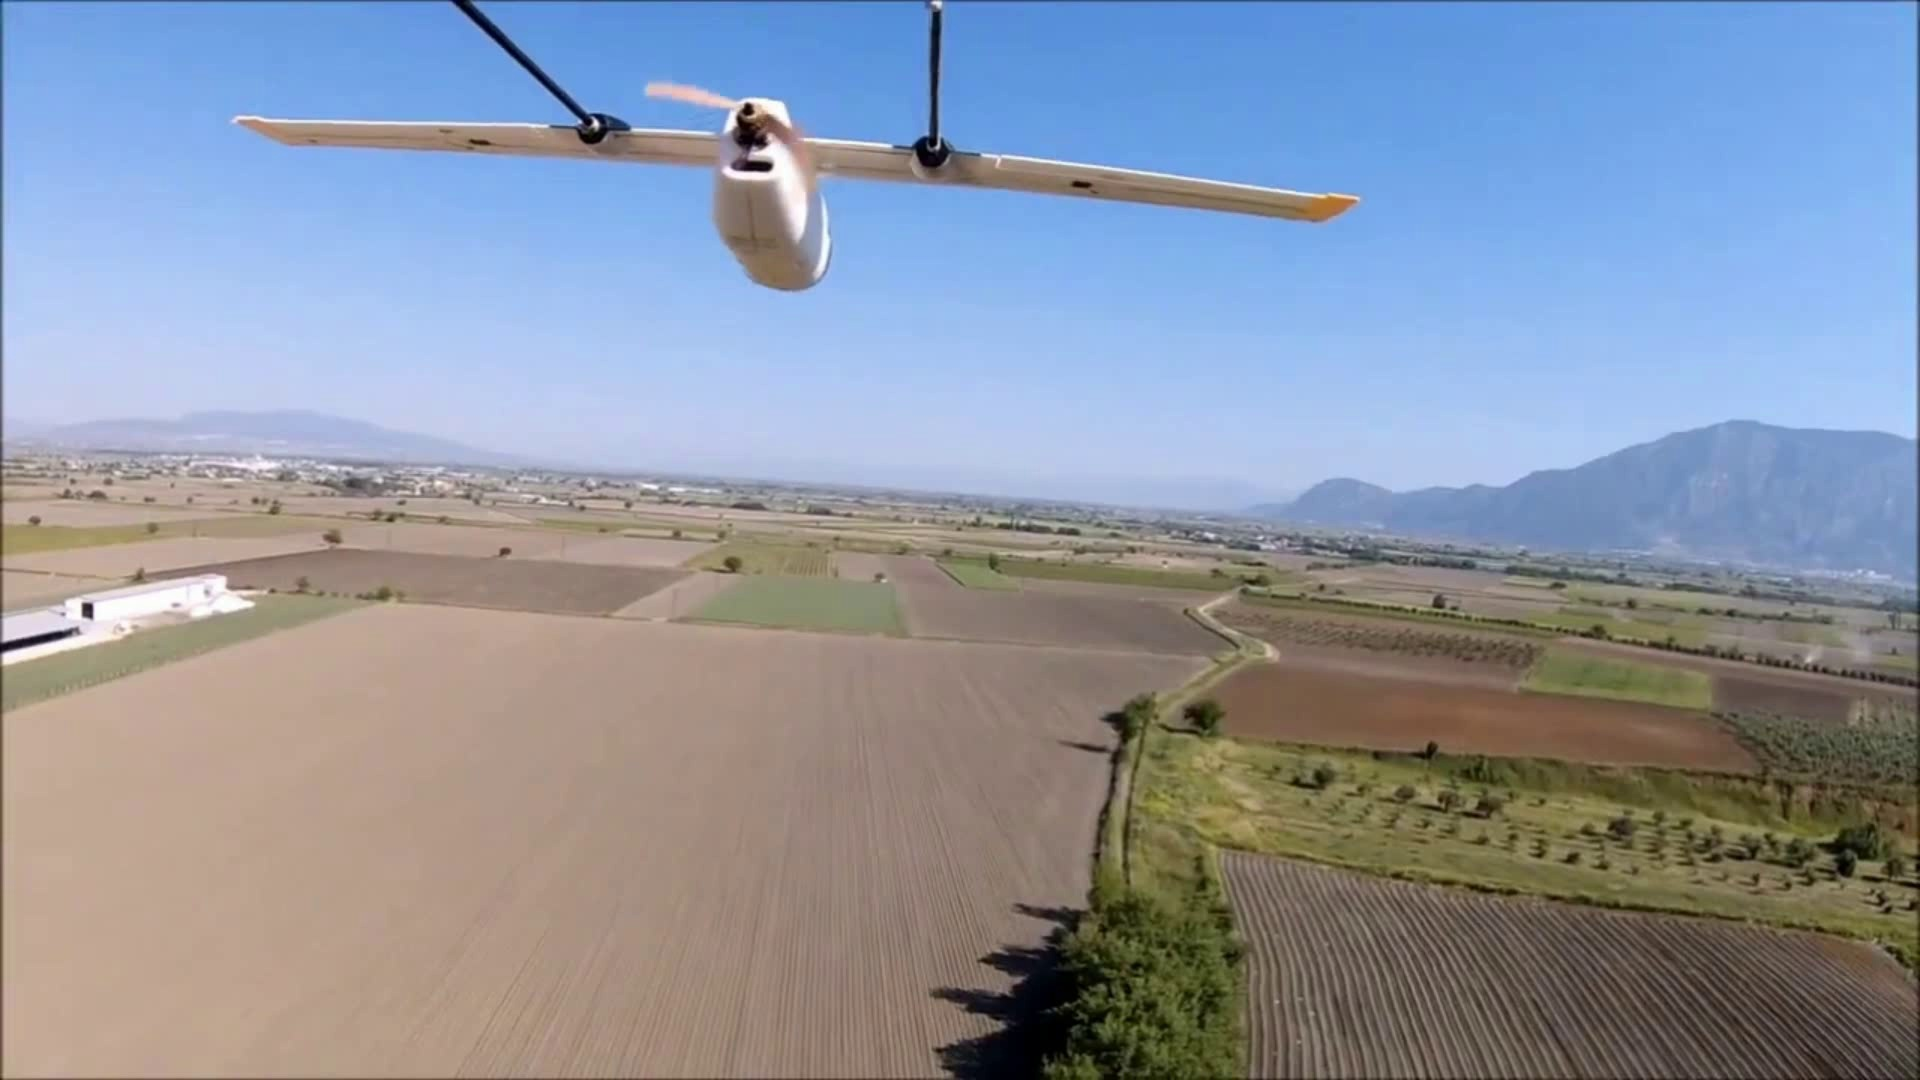airplane: (233, 1, 1356, 290)
